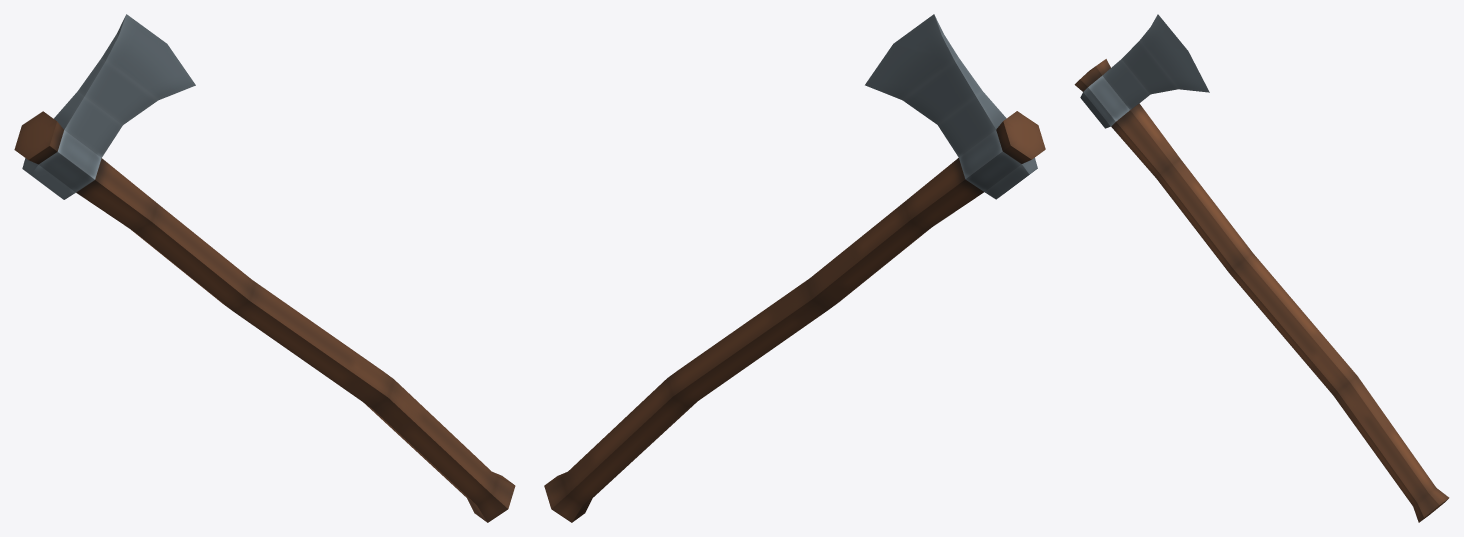
File: axe (1).fbx
3 renders of one model, left to right at view 1: azimuth 30°, elevation 25°; view 2: azimuth 150°, elevation 25°; view 3: azimuth 330°, elevation 25°, orthographic. The views are drawn at different scales.
Parts seen in each view (by area): view 1: pCylinder1; view 2: pCylinder1; view 3: pCylinder1.
Part boxes in pixels (x1,y1,x2,y2): pCylinder1: (14, 14, 515, 522); pCylinder1: (544, 14, 1045, 522); pCylinder1: (1074, 14, 1449, 522).
Bounding box in the file's own units: 6.79 × 7.86 × 0.6832.
Materials: 1 (1 with a texture image).
